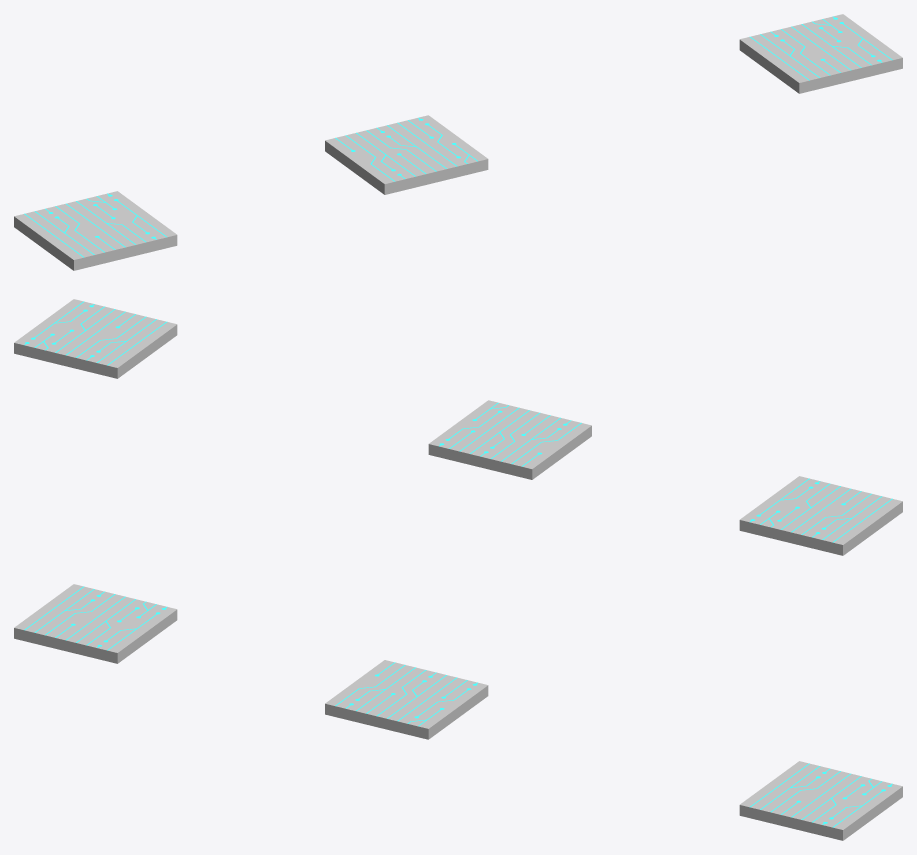
Rendered from floor_plat4.glb.
3 views of the same model, one above another, from view 1: azimuth 30°, elevation 25°; view 2: azimuth 150°, elevation 25°; view 3: azimuth 330°, elevation 25° (orthographic).
Parts seen in each view (by area): view 1: Cube.004, Plane.045; view 2: Cube.004, Plane.045; view 3: Cube.004, Plane.045.
Part boxes in pixels (left/top/right/bottom): Cube.004: left=14, top=14, right=902, bottom=270; Plane.045: left=24, top=16, right=892, bottom=257; Cube.004: left=14, top=299, right=902, bottom=555; Plane.045: left=24, top=301, right=892, bottom=542; Cube.004: left=14, top=584, right=902, bottom=840; Plane.045: left=24, top=586, right=892, bottom=827.
Size of the model in its own units: 160 by 2.01 by 20.
